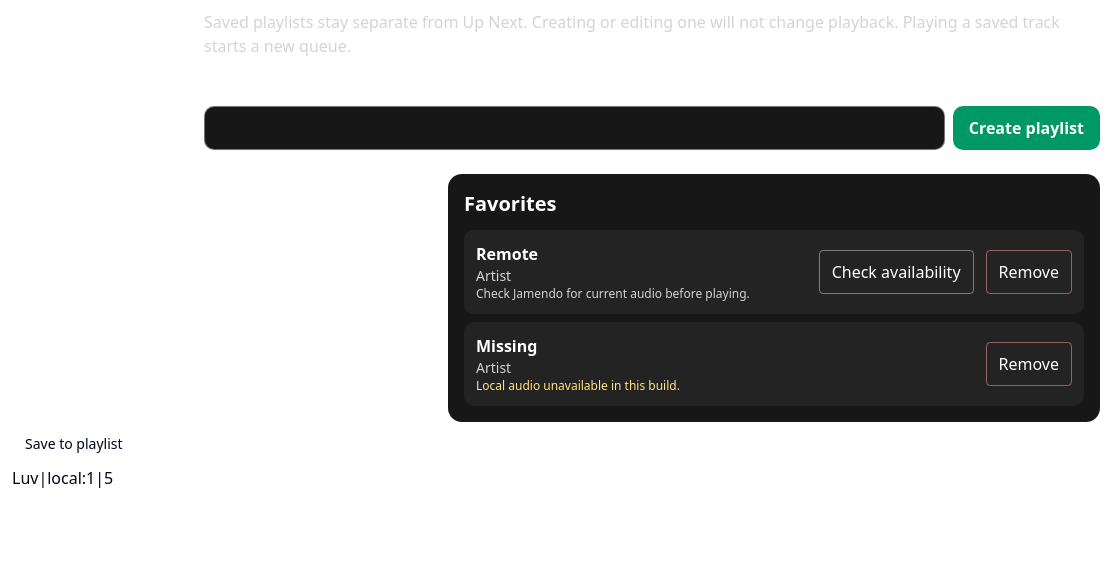
Test: saved playlist UI › keeps unavailable Jamendo and missing local audio honest
The width and height of the screenshot is (1117, 569).
Expected: the text "Local audio unavailable in this build." is shown, left=476, top=377, right=680, bottom=394
Click the button with aria-label "Check playback availability for Remote": (896, 272) left=819, top=250, right=974, bottom=294
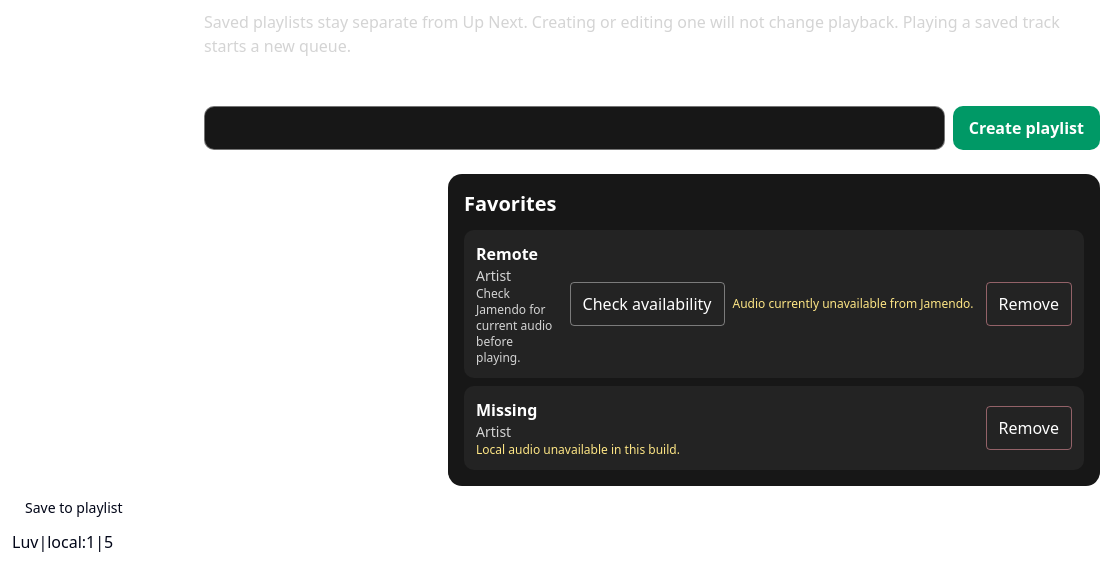
Result: the text "Audio currently unavailable from Jamendo." is shown at left=732, top=296, right=974, bottom=312
